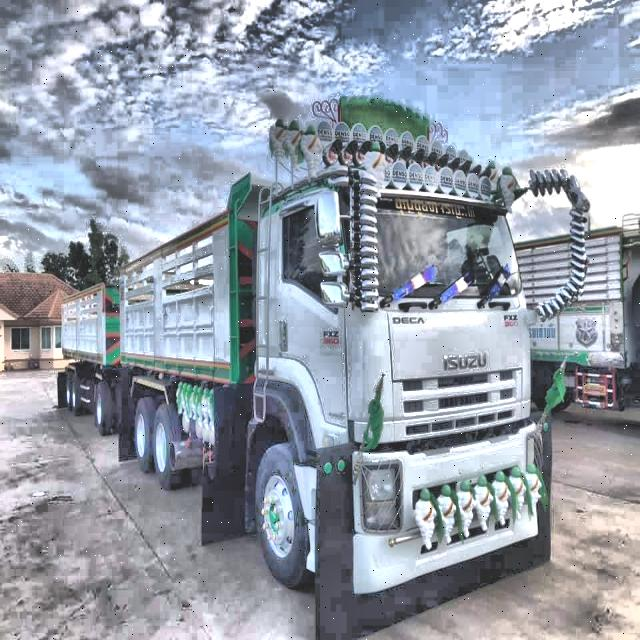trailer: (58, 90, 541, 592)
